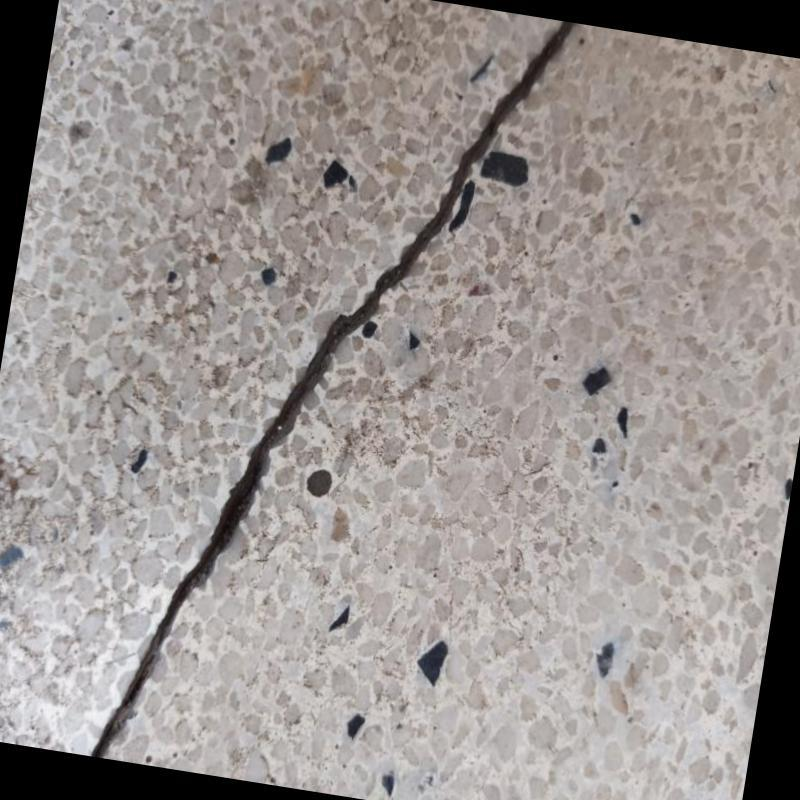crack: (93, 21, 574, 757)
